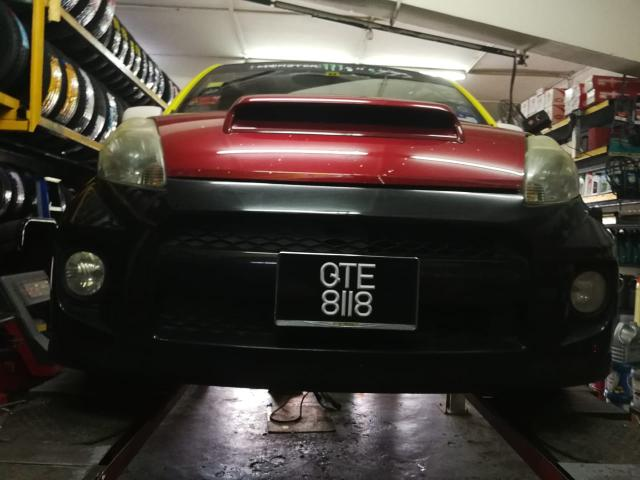License_Plate: (277, 253, 421, 334)
car: (48, 48, 615, 409)
